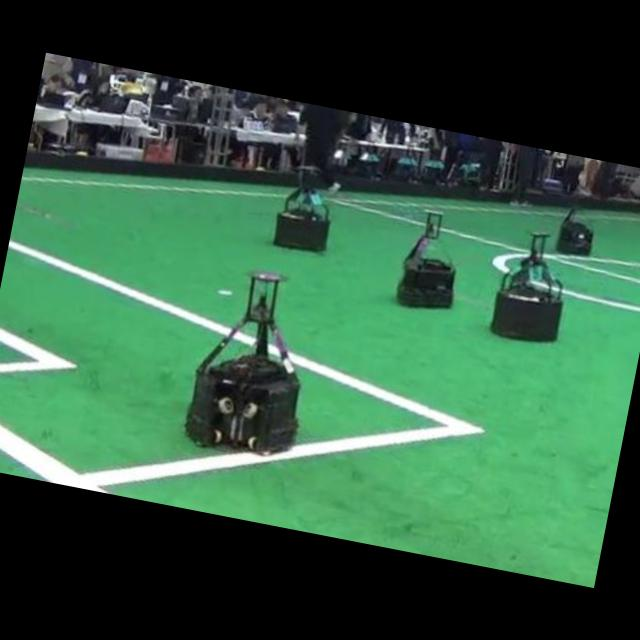robot: (186, 271, 299, 450), (491, 233, 563, 338), (399, 211, 456, 306), (275, 164, 330, 249), (556, 206, 594, 254)
